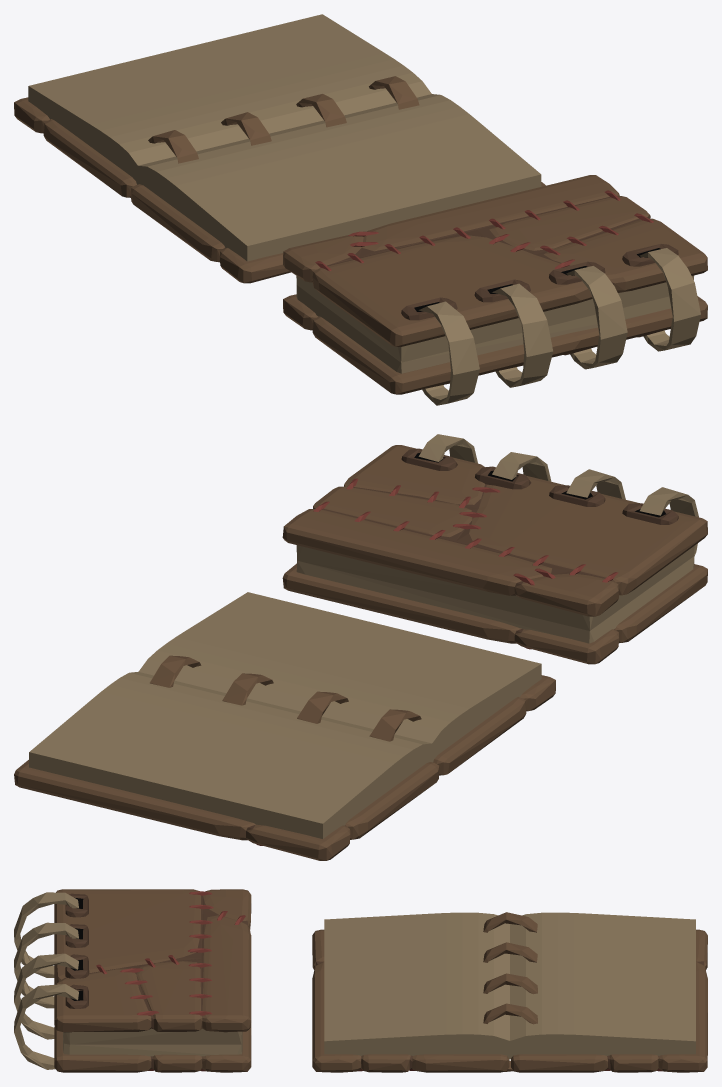
File: book f.fbx
3 renders of one model, top to bottom at view 1: azimuth 30°, elevation 25°; view 2: azimuth 150°, elevation 25°; view 3: azimuth 270°, elevation 25°, orthographic. The views are drawn at different scales.
Parts seen in each view (by area): view 1: book2 open, book2; view 2: book2 open, book2; view 3: book2 open, book2.
Boxes of the visible parts, x1,y1,x2,y2 form: book2 open: (14,14,545,283); book2: (283,175,707,405); book2 open: (14,592,555,860); book2: (282,434,707,664); book2 open: (312,912,707,1072); book2: (14,889,251,1072).
Bounding box in the file's own units: 36.59 × 10.6 × 81.59.
